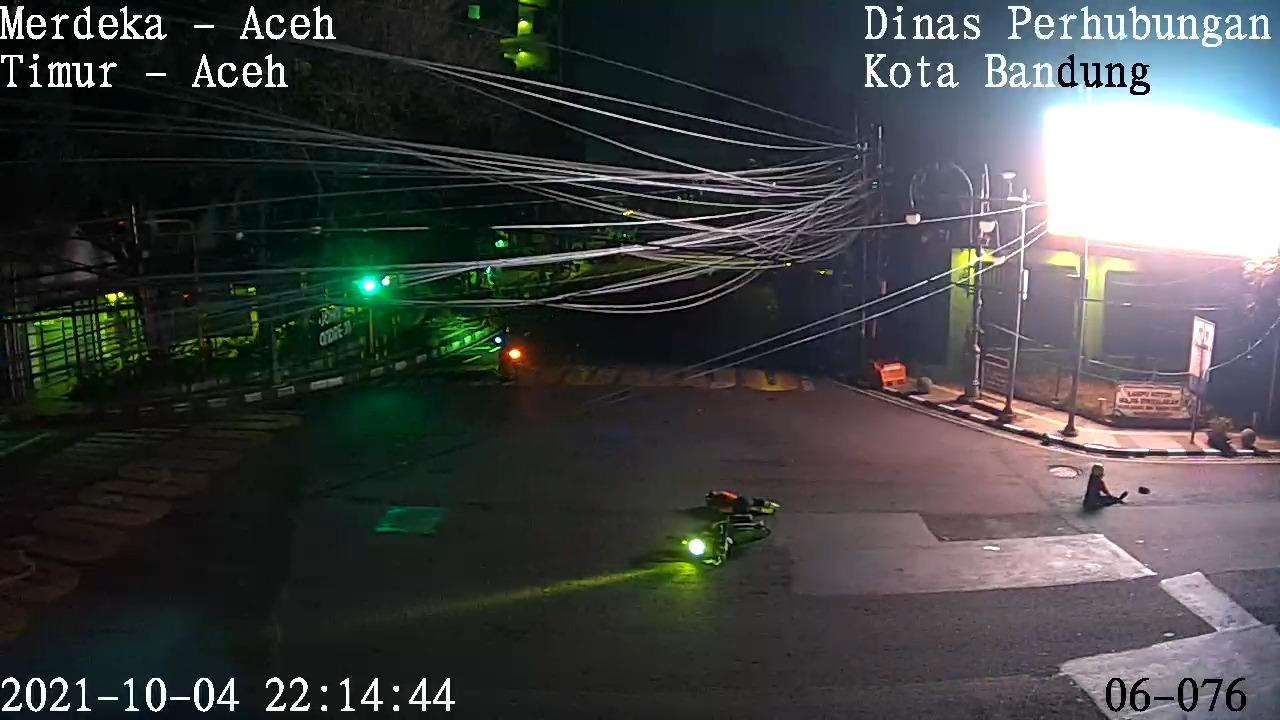accident: (695, 479, 782, 530), (1072, 459, 1135, 521)
